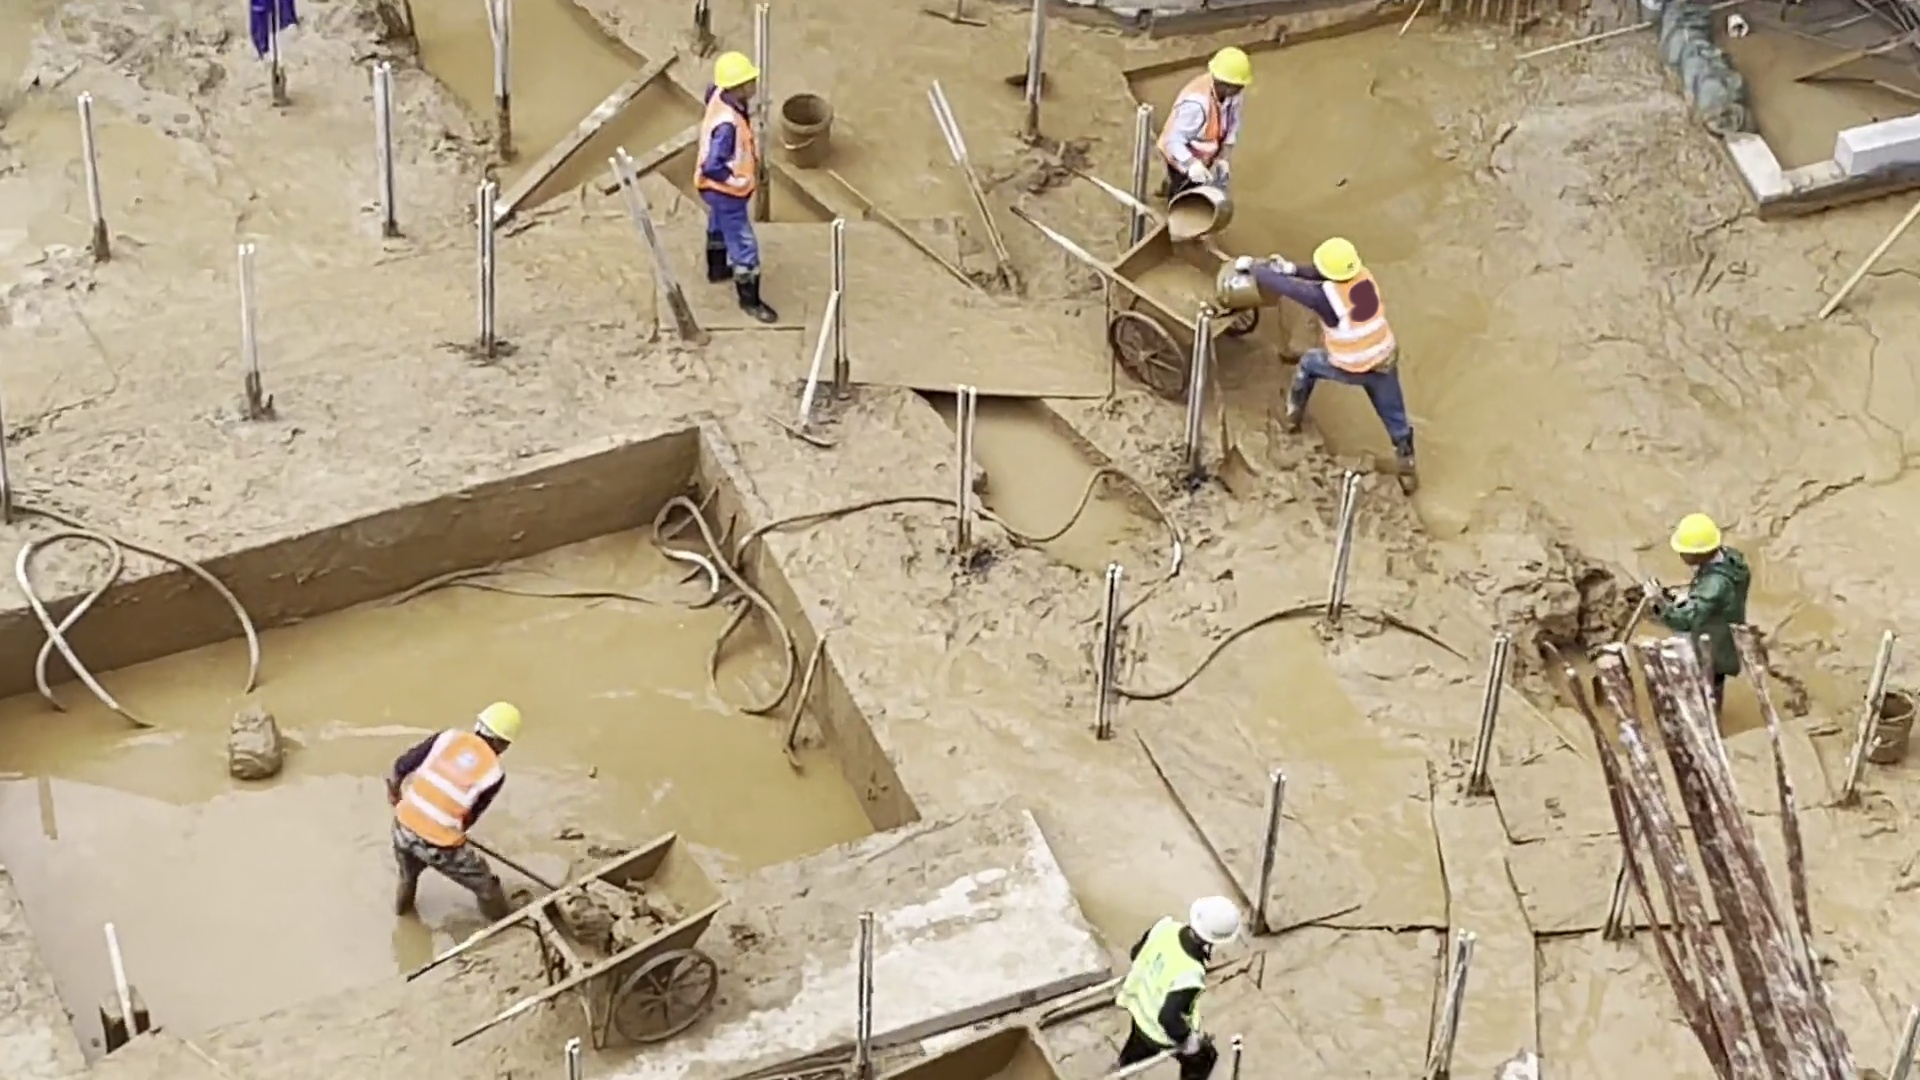helmet: (1187, 894, 1243, 944), (1667, 513, 1723, 556), (1312, 237, 1363, 284), (477, 697, 521, 748), (1208, 45, 1256, 89), (711, 48, 757, 90)
person: (1233, 232, 1424, 474), (386, 696, 518, 928), (1114, 892, 1249, 1080), (697, 48, 778, 323), (1644, 512, 1751, 706), (1158, 39, 1246, 197)
vest: (393, 724, 506, 852), (1118, 912, 1206, 1053), (1158, 68, 1239, 177), (1324, 265, 1400, 376), (699, 86, 763, 199)
